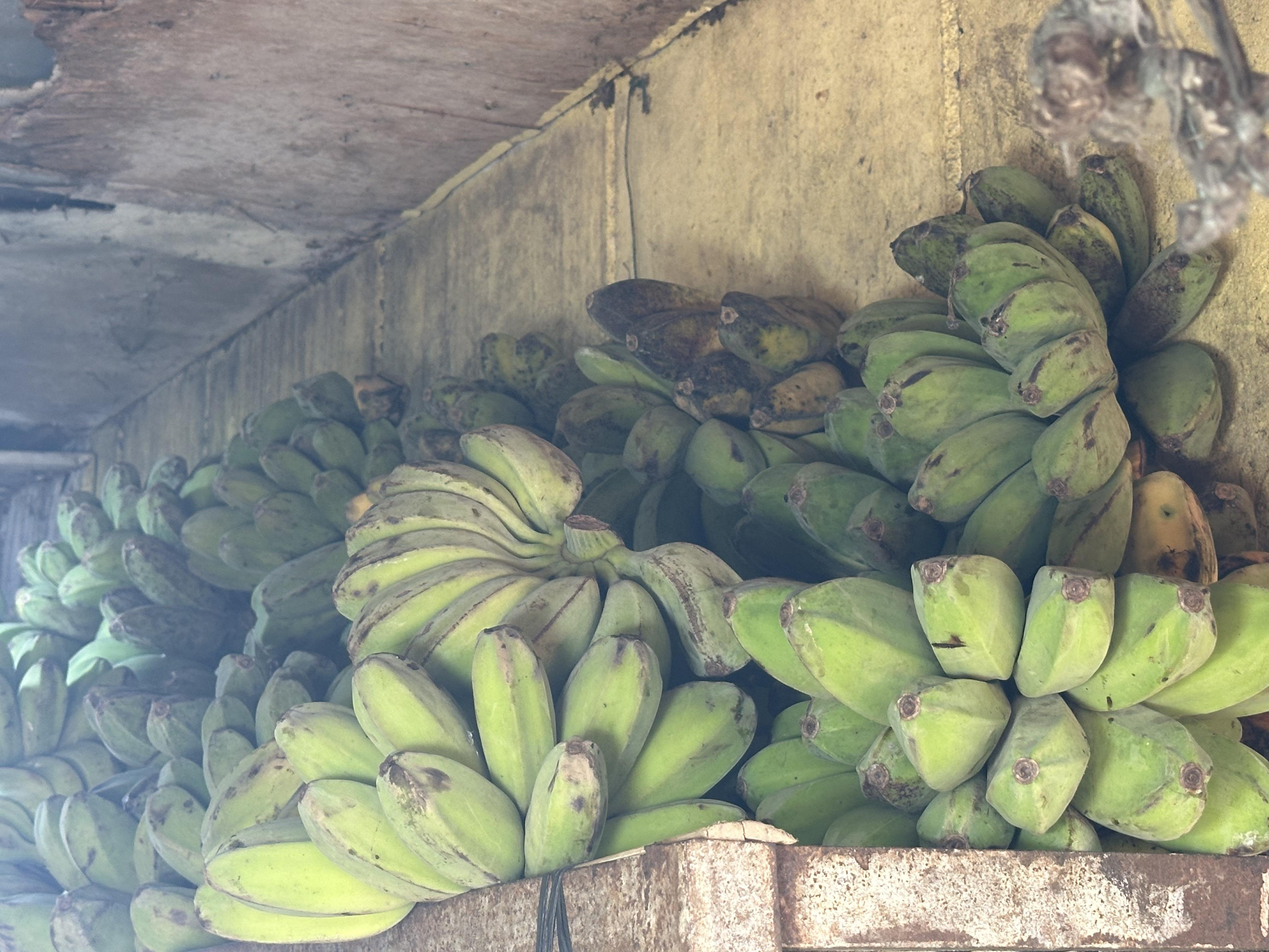overripe: (586, 279, 847, 435)
underripe: (196, 626, 757, 943), (724, 555, 1269, 853), (862, 223, 1217, 598), (332, 424, 750, 724), (838, 155, 1223, 462), (736, 698, 1101, 852), (556, 386, 830, 580), (734, 388, 944, 582), (181, 418, 403, 591), (33, 785, 224, 952), (15, 456, 188, 640), (0, 630, 212, 766), (398, 332, 594, 462), (0, 742, 120, 951), (201, 651, 352, 795), (101, 534, 245, 661), (243, 543, 346, 671)
